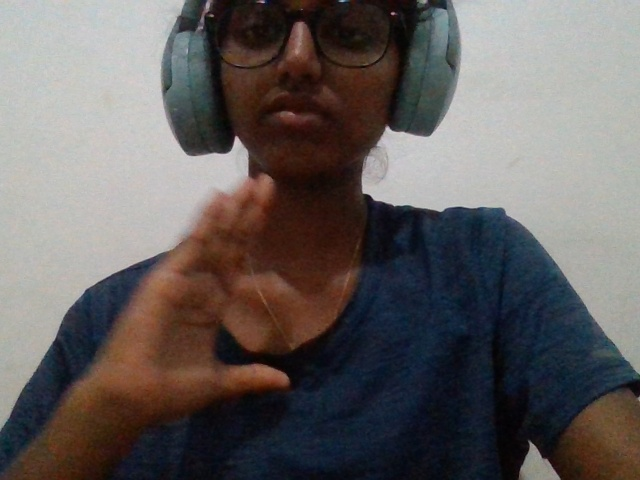Fine: (46, 148, 302, 452)
